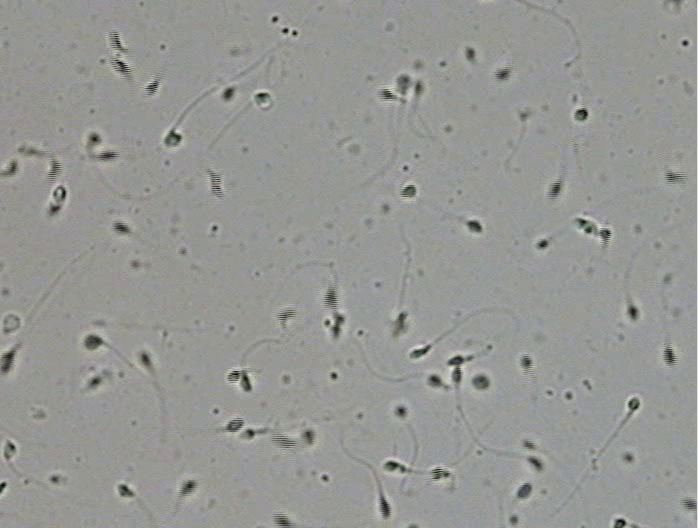S: (208, 169, 224, 198), (573, 218, 598, 236), (271, 433, 296, 450), (329, 313, 344, 341), (109, 57, 131, 76), (1, 349, 16, 373), (47, 160, 63, 182), (323, 289, 339, 311), (378, 496, 393, 519), (108, 30, 124, 51), (272, 512, 293, 528), (84, 334, 104, 350), (395, 74, 411, 94), (410, 345, 432, 359), (665, 170, 687, 184), (179, 480, 197, 497), (662, 346, 677, 366), (394, 312, 407, 335), (164, 130, 182, 146), (96, 150, 120, 162), (277, 308, 296, 323), (547, 180, 562, 199), (52, 185, 67, 203), (226, 418, 245, 432), (430, 467, 450, 480), (144, 79, 159, 96), (472, 374, 489, 389), (112, 221, 130, 235), (240, 371, 252, 392), (3, 440, 16, 459), (527, 456, 542, 472), (517, 483, 532, 499), (300, 429, 314, 446), (377, 88, 395, 101), (493, 67, 511, 80), (681, 497, 697, 511), (117, 484, 134, 497), (427, 374, 442, 388), (138, 351, 151, 367), (466, 220, 482, 233), (520, 354, 533, 370), (400, 185, 417, 197), (599, 227, 611, 244), (627, 304, 639, 321), (447, 355, 465, 366), (47, 203, 61, 217), (5, 161, 18, 176), (254, 92, 270, 104), (222, 87, 235, 101), (574, 108, 588, 121), (240, 428, 255, 440), (452, 366, 462, 383), (227, 370, 240, 383), (87, 133, 101, 145), (628, 397, 640, 411), (535, 239, 549, 250), (413, 80, 423, 95), (88, 377, 101, 388), (464, 47, 475, 60), (384, 461, 398, 471), (395, 406, 407, 417), (613, 518, 626, 528), (522, 440, 535, 449), (1, 481, 7, 495)
